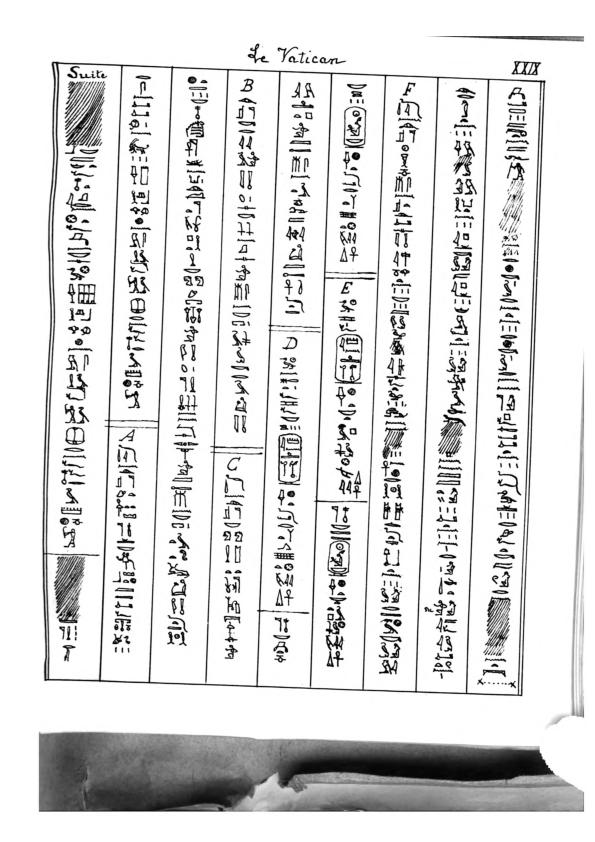circle: (333, 332, 364, 386), (275, 431, 304, 488), (340, 104, 368, 149), (326, 539, 352, 580)
